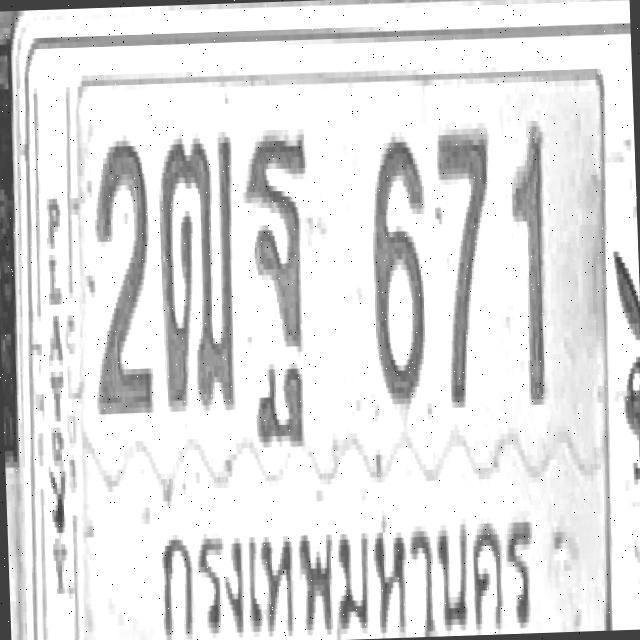1: (508, 120, 550, 405)
2: (88, 134, 154, 414)
25ThorThan: (242, 126, 314, 400)
27ThorPhuThao: (155, 128, 240, 409)
6: (367, 127, 430, 407)
7: (434, 125, 496, 405)
Bangkok: (147, 481, 543, 640)
